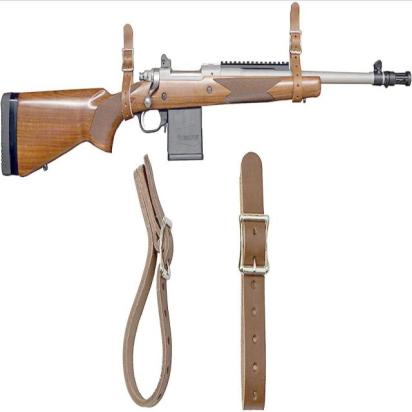Gun: (2, 46, 412, 172)
